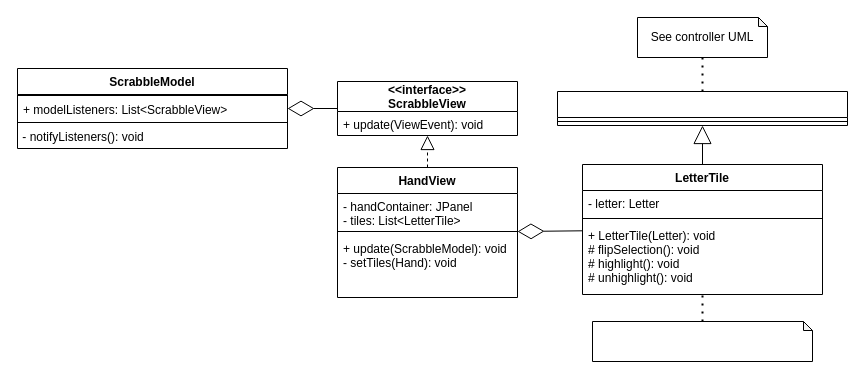
The diagram is 865 pixels wide and 379 high, and some of its shapes have lost their labels. The shapes that lost their labels are listed below. From the top down, each one's centre as x and y in pixels, then its label:
At point (702, 108): "HandTileController".
At point (702, 341): "Handles view aspect of letter Tile (extends select, highlight for indication)".
